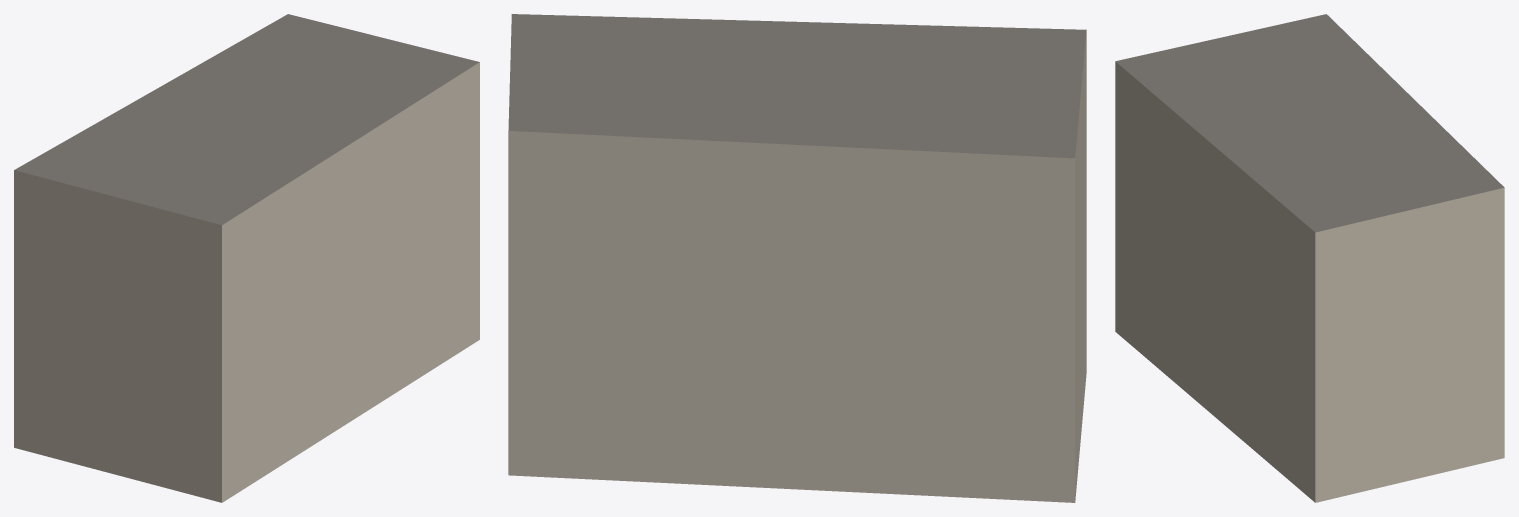
3 renders of one model, left to right at view 1: azimuth 30°, elevation 25°; view 2: azimuth 150°, elevation 25°; view 3: azimuth 270°, elevation 25°, orthographic. The views are drawn at different scales.
Parts seen in each view (by area): view 1: HP-w505633362; view 2: HP-w505633362; view 3: HP-w505633362.
Boxes of the visible parts, x1=… form: HP-w505633362: x1=14, y1=14, x2=479, y2=502; HP-w505633362: x1=508, y1=14, x2=1086, y2=502; HP-w505633362: x1=1115, y1=14, x2=1504, y2=502.
Bounding box in the file's own units: 31.2 × 18 × 23.49.
